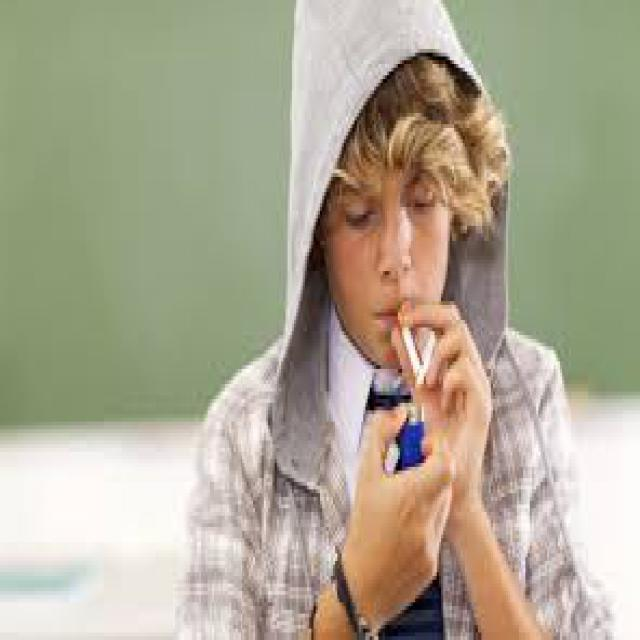cigarette: (392, 312, 426, 388), (415, 326, 443, 398)
